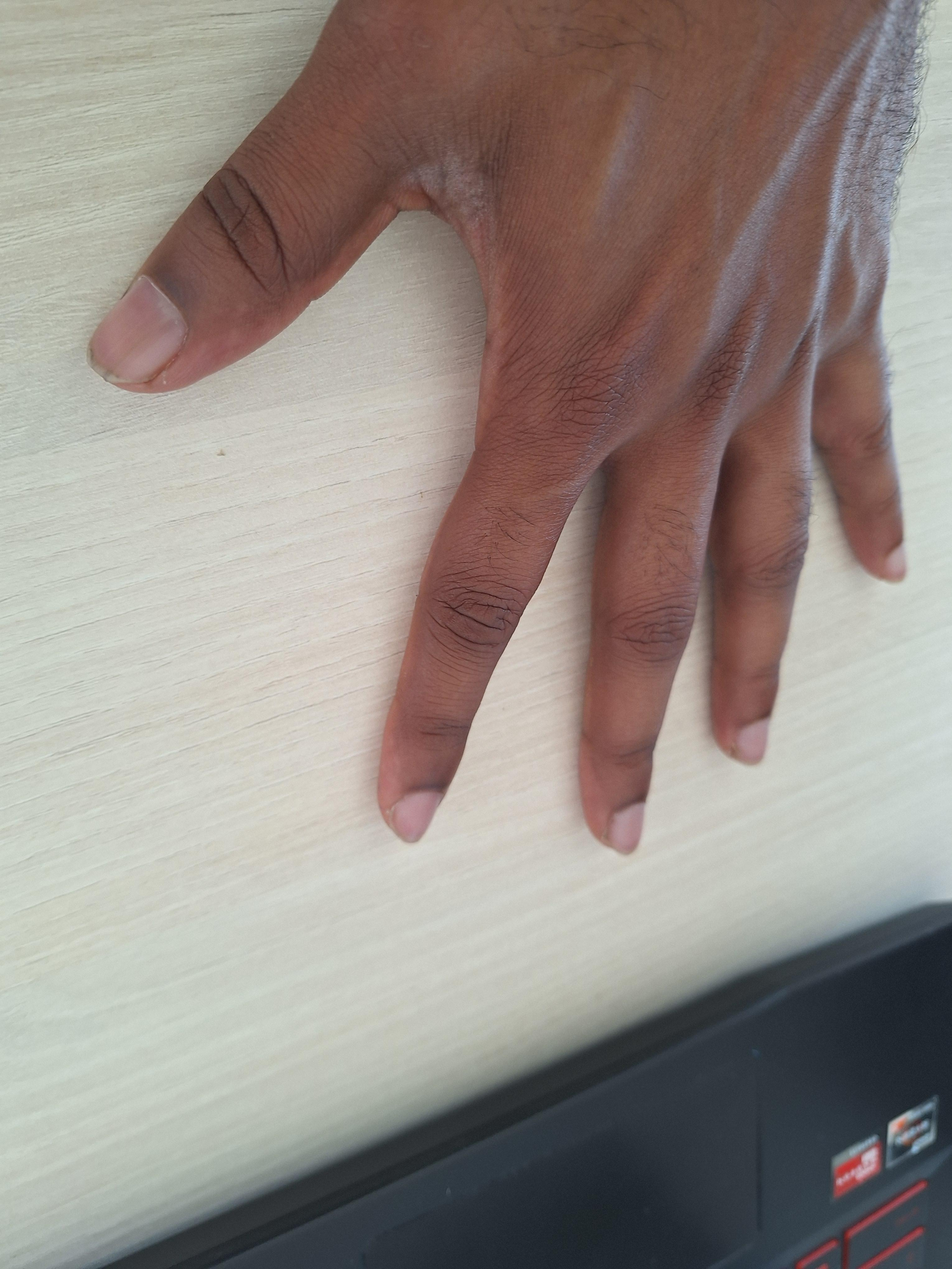Fingernail: (88, 276, 188, 386), (390, 792, 445, 844), (603, 803, 645, 855), (734, 717, 769, 766), (885, 542, 907, 583)
